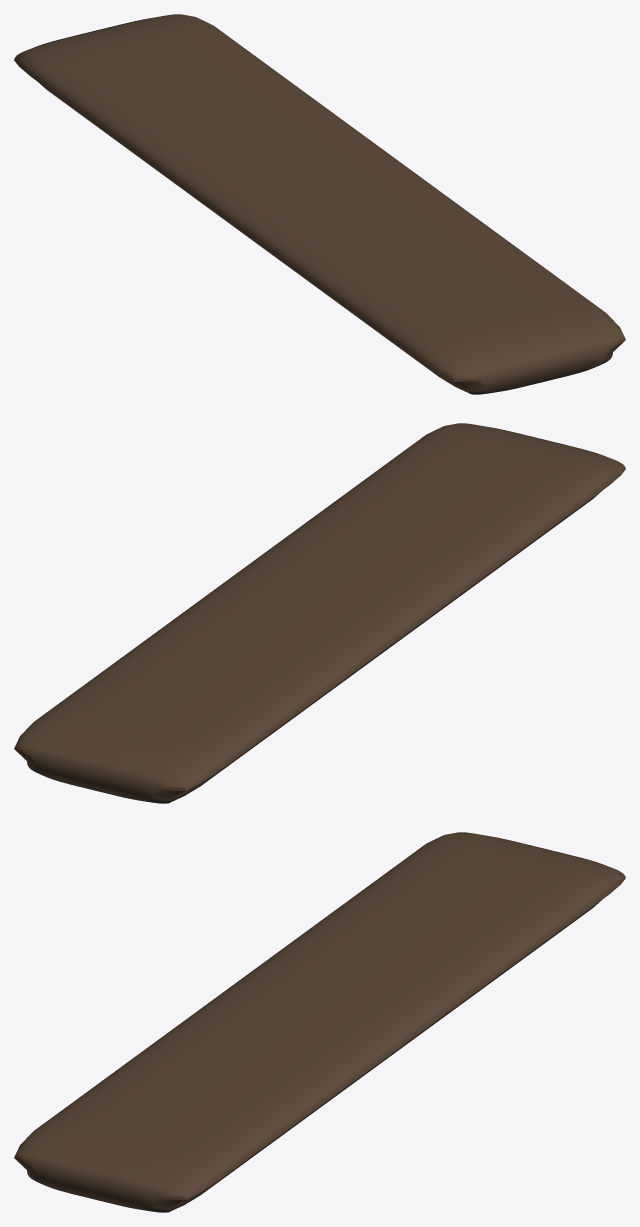
The model's file is brat.glb.
3 renders of one model, top to bottom at view 1: azimuth 30°, elevation 25°; view 2: azimuth 150°, elevation 25°; view 3: azimuth 330°, elevation 25°, orthographic.
Parts seen in each view (by area): view 1: lod0; view 2: lod0; view 3: lod0.
Boxes of the visible parts, bbox=[...] form: lod0: bbox=[14, 14, 625, 394]; lod0: bbox=[14, 423, 625, 803]; lod0: bbox=[14, 832, 625, 1212].
Size of what is drawn, in the model's own units: 0.2395 by 0.045 by 1.
